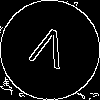V: (25, 25, 70, 79)
